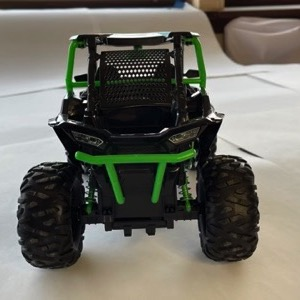polaris: (16, 29, 262, 270)
